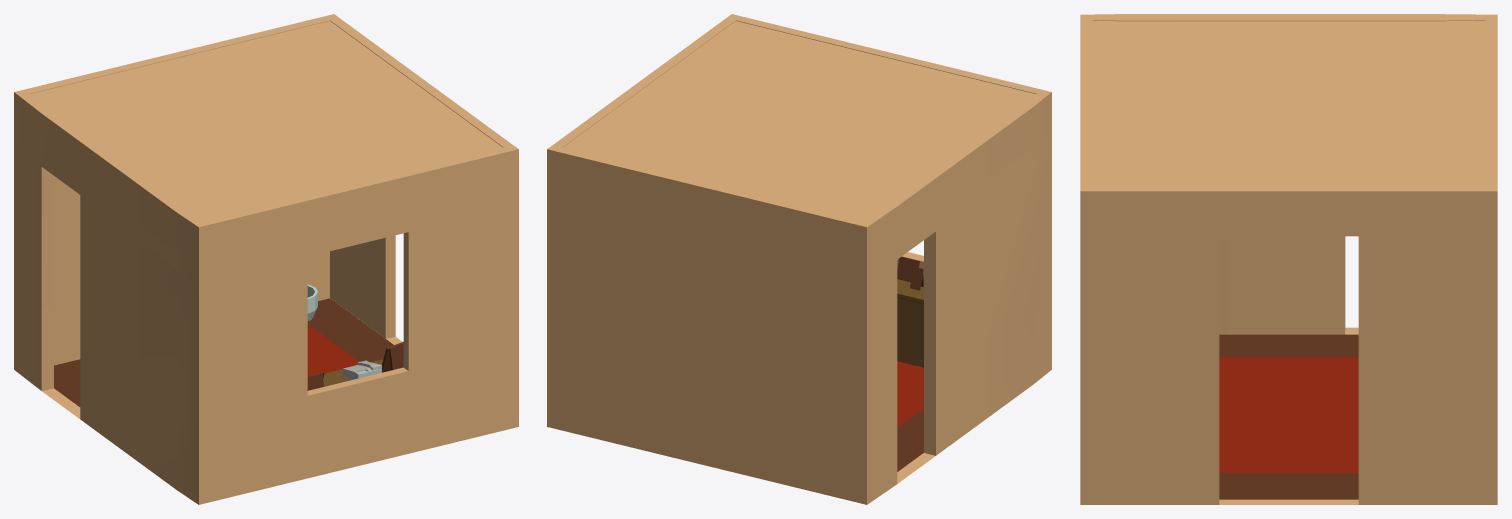
The model's file is S_Hall.glb.
3 renders of one model, left to right at view 1: azimuth 30°, elevation 25°; view 2: azimuth 150°, elevation 25°; view 3: azimuth 270°, elevation 25°, orthographic. The views are drawn at different scales.
Visible parts, largest first — view 1: S_Hall.001, S_Carpet.001; view 2: S_Hall.001, Cube.004, S_Carpet.001; view 3: S_Hall.001, S_Carpet.001.
Boxes of the visible parts, bbox=[...] form: S_Hall.001: bbox=[14, 14, 518, 504]; S_Carpet.001: bbox=[307, 326, 358, 375]; S_Hall.001: bbox=[547, 14, 1051, 504]; Cube.004: bbox=[897, 269, 923, 367]; S_Carpet.001: bbox=[897, 361, 923, 427]; S_Hall.001: bbox=[1080, 14, 1497, 504]; S_Carpet.001: bbox=[1219, 357, 1358, 472].
Size of the model in its own units: 3.2 by 2.65 by 3.19.
